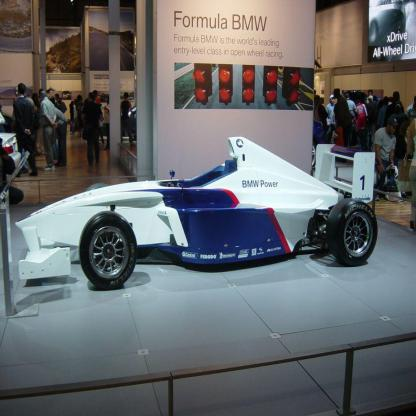face: (390, 126, 396, 136), (1, 141, 5, 156), (331, 99, 335, 104), (36, 96, 39, 102), (316, 100, 319, 106), (336, 95, 339, 100), (57, 98, 59, 101), (124, 95, 125, 99)
